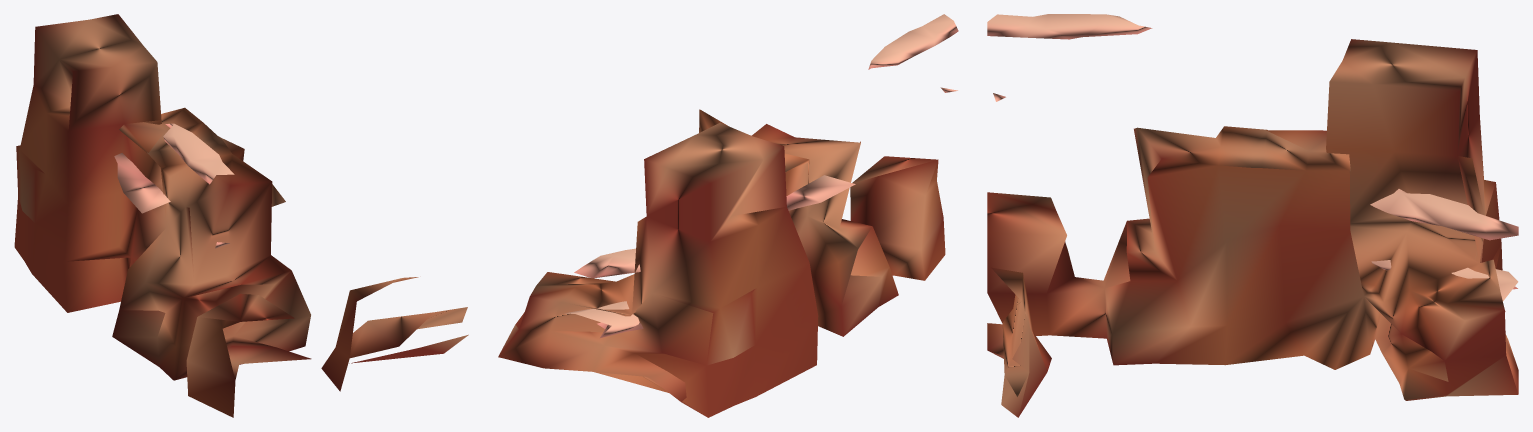
3 renders of one model, left to right at view 1: azimuth 30°, elevation 25°; view 2: azimuth 150°, elevation 25°; view 3: azimuth 270°, elevation 25°, orthographic. The views are drawn at different scales.
Visible parts, largest first — view 1: scene.l1.0.1 (×2); view 2: scene.l1.0.1 (×2); view 3: scene.l1.0.1 (×2).
Part boxes in pixels (box(x1,y1,x2,y2)): scene.l1.0.1 (×2): box(14, 14, 468, 417); scene.l1.0.1 (×2): box(498, 14, 958, 417); scene.l1.0.1 (×2): box(987, 14, 1518, 417).
Size of the model in its own units: 80.13 by 71.95 by 125.
